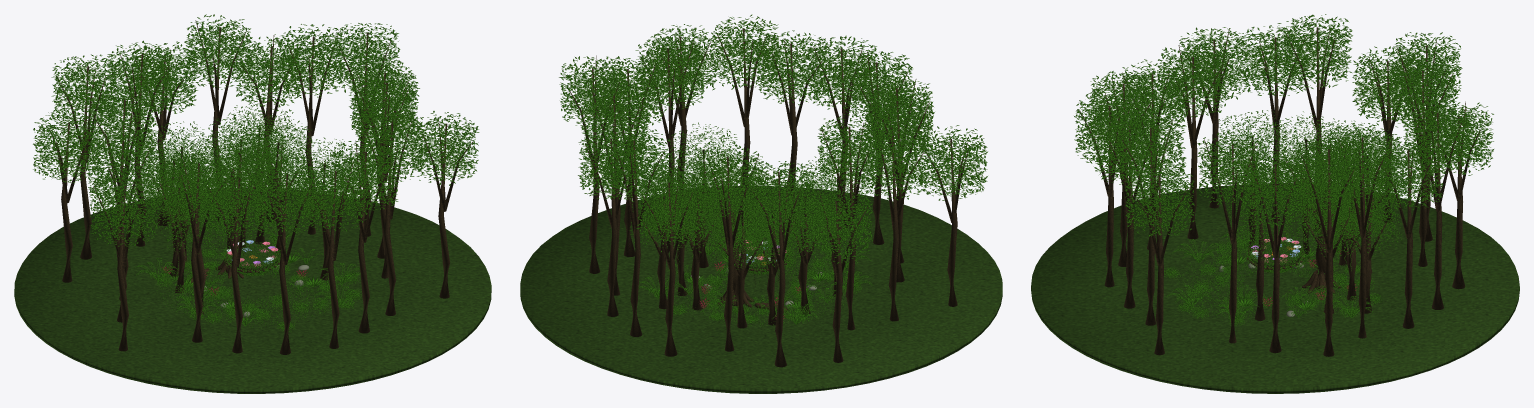
3 renders of one model, left to right at view 1: azimuth 30°, elevation 25°; view 2: azimuth 150°, elevation 25°; view 3: azimuth 270°, elevation 25°, orthographic. The views are drawn at different scales.
Parts seen in each view (by area): view 1: TERRAIN_finite_working_domain, FAR_TREE_11_crown, FAR_TREE_14_crown, FAR_TREE_04_crown, FAR_TREE_15_crown, FAR_TREE_02_crown, FAR_TREE_08_crown, FAR_TREE_12_crown, FAR_TREE_13_crown, FAR_TREE_18_crown, FAR_TREE_07_crown, FAR_TREE_17_crown (+38 smaller); view 2: TERRAIN_finite_working_domain, FAR_TREE_07_crown, FAR_TREE_05_crown, FAR_TREE_09_crown, FAR_TREE_11_crown, FAR_TREE_08_crown, FAR_TREE_17_crown, FAR_TREE_04_crown, FAR_TREE_16_crown, FAR_TREE_19_crown, FAR_TREE_06_crown, FAR_TREE_10_crown (+44 smaller); view 3: TERRAIN_finite_working_domain, FAR_TREE_09_crown, FAR_TREE_18_crown, FAR_TREE_01_crown, FAR_TREE_17_crown, FAR_TREE_00_crown, FAR_TREE_19_crown, FAR_TREE_12_crown, FAR_TREE_04_crown, FAR_TREE_03_crown, FAR_TREE_06_crown, FAR_TREE_10_crown (+41 smaller).
Part boxes in pixels (x1,y1,x2,y2): TERRAIN_finite_working_domain: (14,187,491,393); FAR_TREE_11_crown: (89,173,157,246); FAR_TREE_14_crown: (251,163,319,236); FAR_TREE_04_crown: (183,14,252,89); FAR_TREE_15_crown: (299,158,368,231); FAR_TREE_02_crown: (277,24,345,98); FAR_TREE_08_crown: (33,111,100,183); FAR_TREE_12_crown: (162,150,231,224); FAR_TREE_13_crown: (203,167,271,241); FAR_TREE_18_crown: (411,111,479,185); FAR_TREE_07_crown: (51,54,119,125); FAR_TREE_17_crown: (355,109,424,182); TERRAIN_finite_working_domain: (520,185,1002,393); FAR_TREE_07_crown: (745,161,815,234); FAR_TREE_05_crown: (636,170,705,245); FAR_TREE_09_crown: (817,114,885,187); FAR_TREE_11_crown: (918,125,987,200); FAR_TREE_08_crown: (803,187,873,263); FAR_TREE_17_crown: (710,14,779,89); FAR_TREE_04_crown: (601,129,670,202); FAR_TREE_16_crown: (758,30,827,105); FAR_TREE_19_crown: (635,37,705,111); FAR_TREE_06_crown: (695,144,763,218); FAR_TREE_10_crown: (859,123,929,200); TERRAIN_finite_working_domain: (1031,183,1519,393); FAR_TREE_09_crown: (1282,14,1352,88); FAR_TREE_18_crown: (1124,165,1194,238); FAR_TREE_01_crown: (1293,134,1363,211); FAR_TREE_17_crown: (1115,115,1186,188); FAR_TREE_00_crown: (1240,152,1310,225); FAR_TREE_19_crown: (1197,130,1267,205); FAR_TREE_12_crown: (1157,43,1228,117); FAR_TREE_04_crown: (1403,99,1473,173); FAR_TREE_03_crown: (1374,137,1443,209); FAR_TREE_06_crown: (1387,56,1458,131); FAR_TREE_10_crown: (1240,23,1310,96).
Bounding box in the file's own units: 64 × 30.76 × 64.
Materials: 10 (3 with a texture image).
